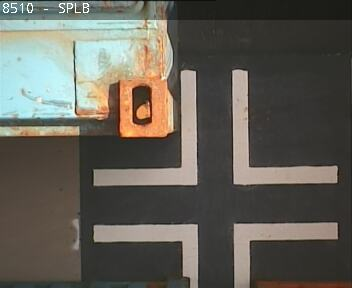groundmarker_1: (93, 70, 336, 187), (95, 222, 335, 288)
